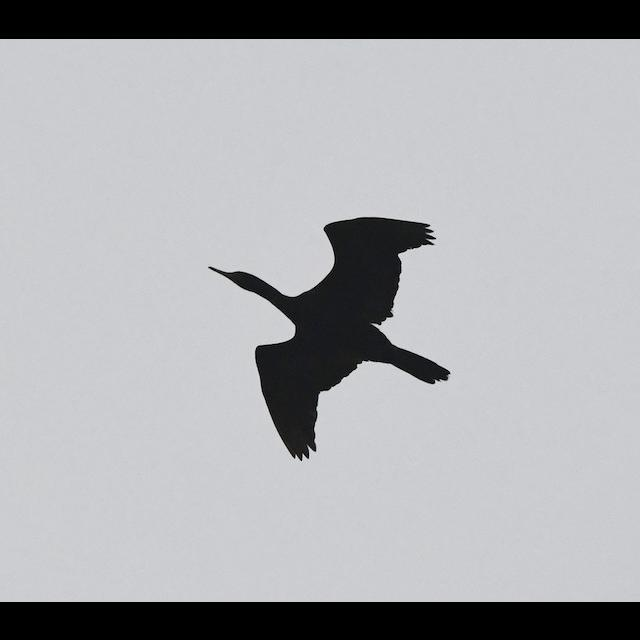cormorant: (208, 217, 452, 458)
